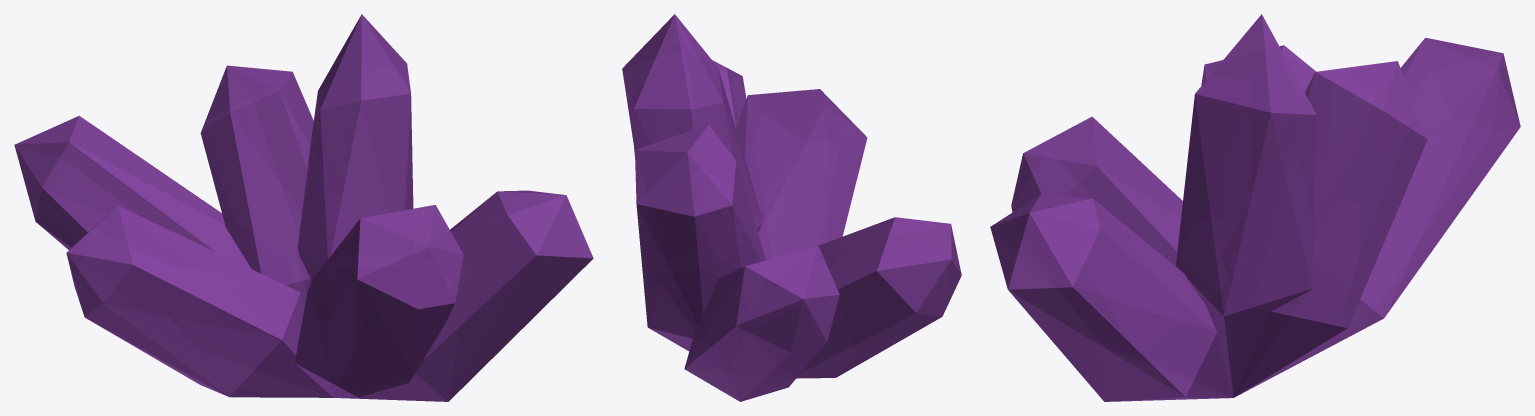
File: purple_crystal.fbx
3 views of the same model, side by side, from view 1: azimuth 30°, elevation 25°; view 2: azimuth 150°, elevation 25°; view 3: azimuth 270°, elevation 25° (orthographic). The views are drawn at different scales.
Visible parts, largest first — view 1: pCylinder63; view 2: pCylinder63; view 3: pCylinder63.
Boxes of the visible parts, x1=… form: pCylinder63: x1=14, y1=14, x2=593, y2=401; pCylinder63: x1=622, y1=14, x2=961, y2=401; pCylinder63: x1=990, y1=14, x2=1520, y2=401.
Size of the model in its own units: 4.27 by 3.55 by 4.2.
